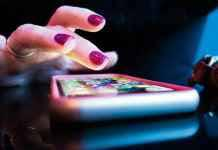Hand: (4, 13, 123, 72)
Smartphone: (49, 70, 199, 121)
